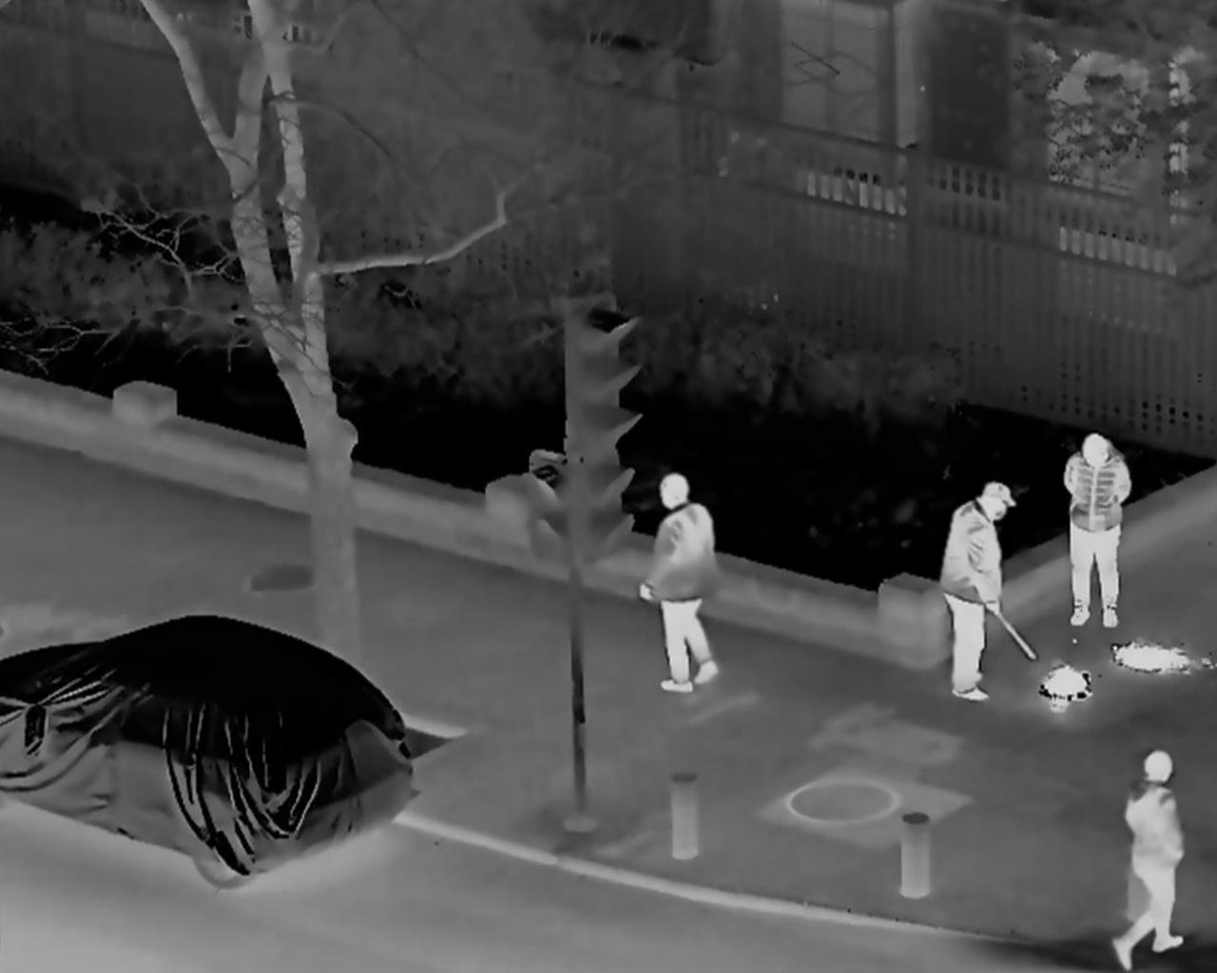person: (640, 471, 723, 696), (937, 477, 1016, 703), (1111, 748, 1191, 970), (1061, 429, 1132, 625)
